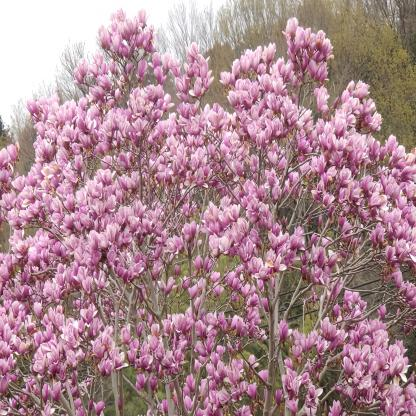Mokuren: (0, 8, 416, 416)
